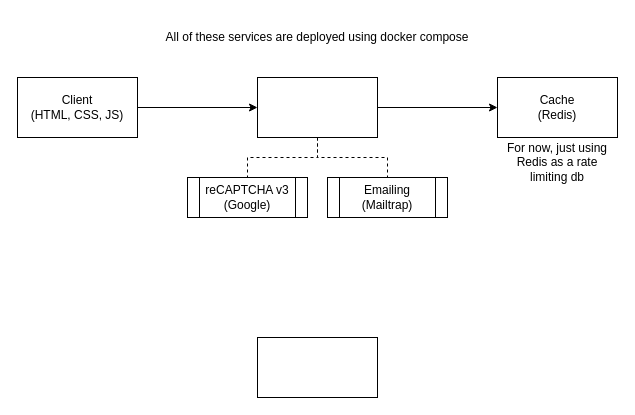
The diagram is 635 pixels wide and 415 high, and some of its shapes have lost their labels. Each missing label, with the centre of its shape:
"Server (Flask)" belongs at (x=317, y=107).
"Syslog Server" belongs at (x=317, y=367).
